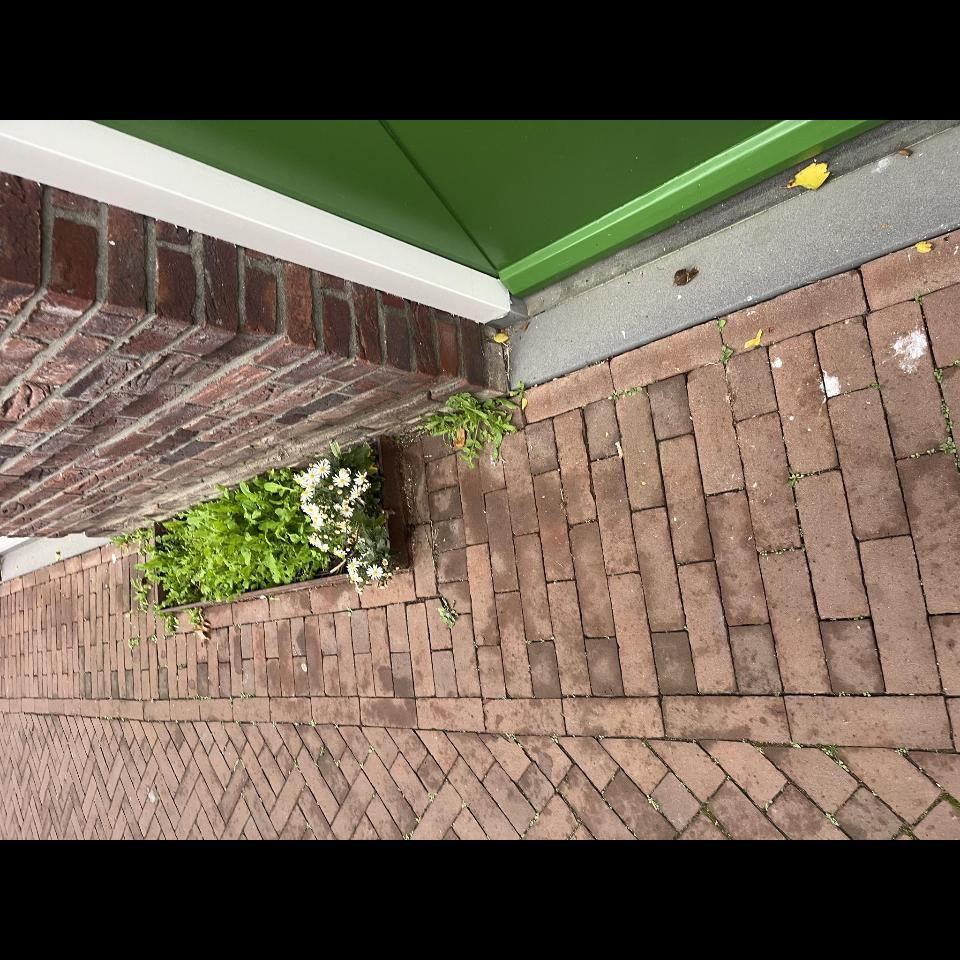weed: (365, 534, 475, 643), (285, 230, 313, 273), (230, 250, 262, 272), (211, 558, 242, 579), (439, 728, 454, 763), (208, 276, 227, 298), (213, 307, 231, 323), (191, 248, 203, 260), (508, 836, 521, 840)
